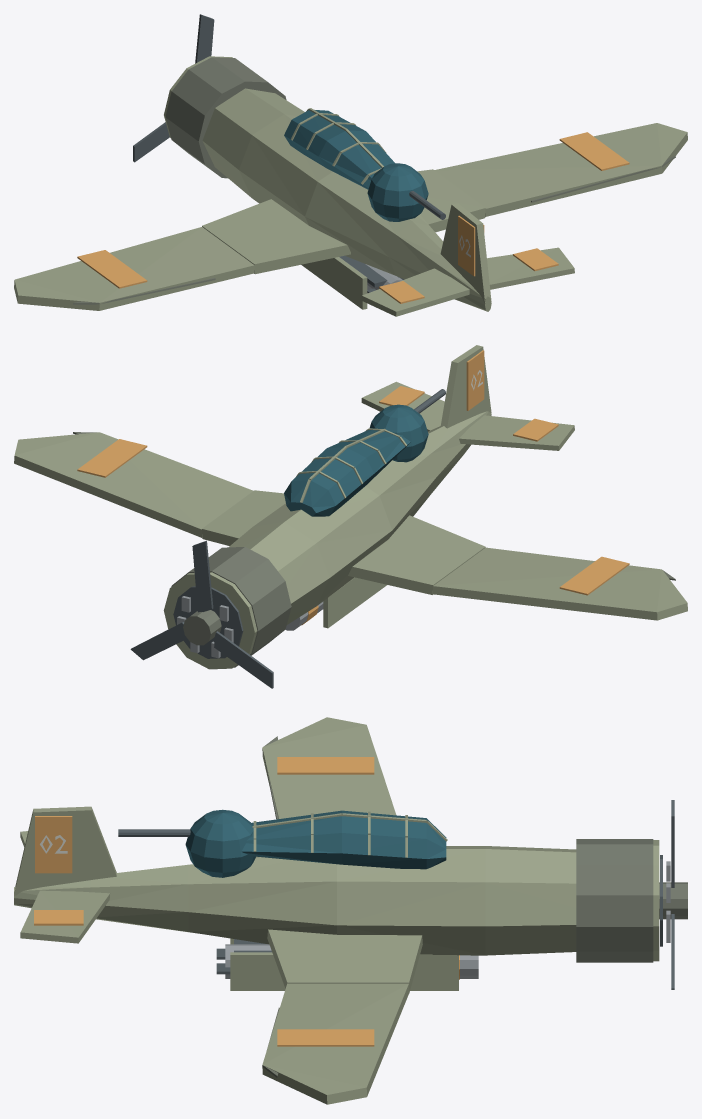
File: ENE_Ww2TorpedoBomber_02.fbx
3 renders of one model, top to bottom at view 1: azimuth 30°, elevation 25°; view 2: azimuth 150°, elevation 25°; view 3: azimuth 270°, elevation 25°, orthographic. The views are drawn at different scales.
Parts seen in each view (by area): view 1: ENE_Ww2TorpedoBomber_02_Visual, Propeller_Visual; view 2: ENE_Ww2TorpedoBomber_02_Visual, Propeller_Visual; view 3: ENE_Ww2TorpedoBomber_02_Visual, Propeller_Visual.
Part boxes in pixels (bbox=[...]): ENE_Ww2TorpedoBomber_02_Visual: bbox=[14, 56, 687, 316]; Propeller_Visual: bbox=[133, 14, 214, 162]; ENE_Ww2TorpedoBomber_02_Visual: bbox=[14, 345, 687, 669]; Propeller_Visual: bbox=[130, 540, 273, 688]; ENE_Ww2TorpedoBomber_02_Visual: bbox=[14, 717, 670, 1104]; Propeller_Visual: bbox=[659, 800, 687, 989].
Size of the model in its own units: 360 by 78.3 by 271.
